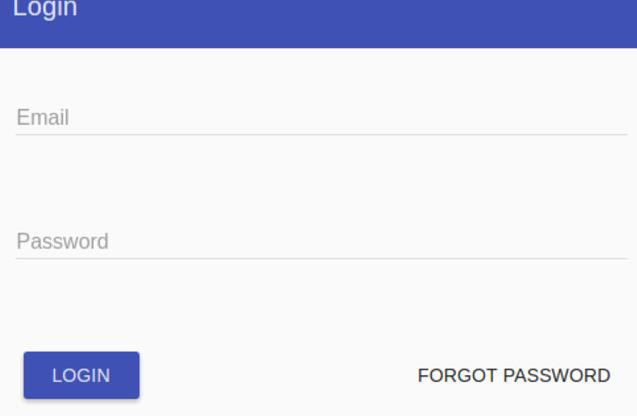button: (21, 349, 144, 402)
field_line: (10, 224, 626, 263), (13, 102, 629, 138)
